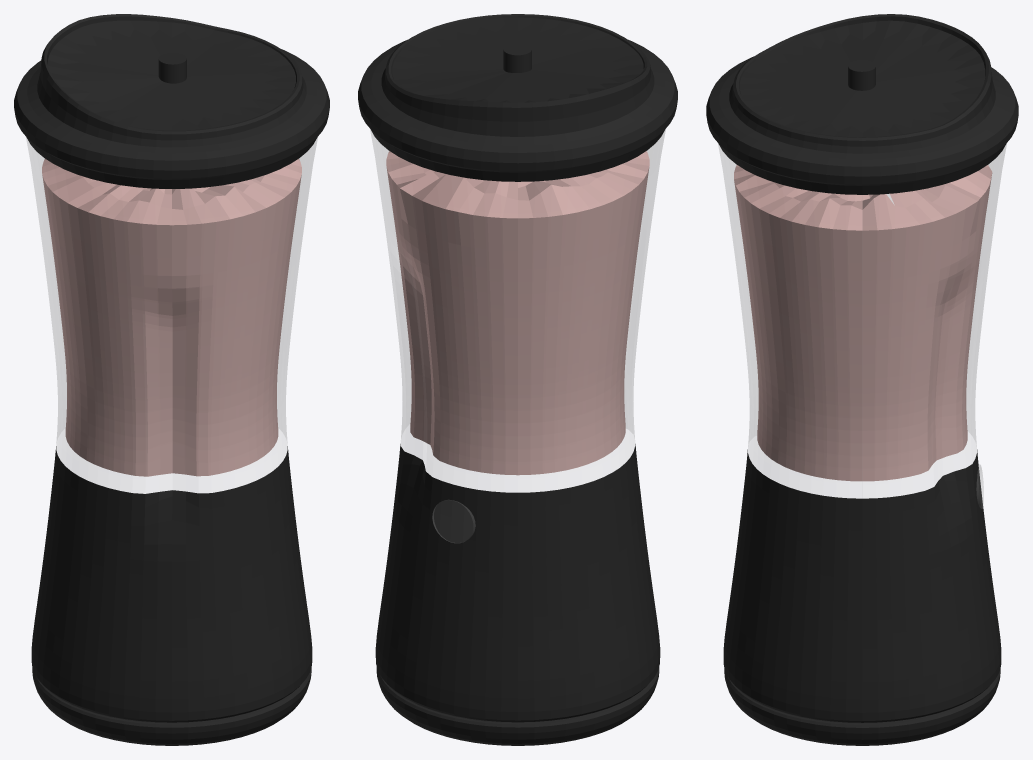
The picture shows the model from 3 angles, left to right: view 1: azimuth 30°, elevation 25°; view 2: azimuth 150°, elevation 25°; view 3: azimuth 270°, elevation 25°; orthographic projection. The views are drawn at different scales.
Visible parts, largest first — view 1: Cylinder007, Object002, Cylinder005, Cylinder006; view 2: Cylinder007, Object002, Cylinder005, Cylinder008, Cylinder006; view 3: Cylinder007, Object002, Cylinder005, Cylinder006.
Boxes of the visible parts, x1,y1,x2,y2 form: Cylinder007: (14, 14, 329, 493); Object002: (31, 446, 312, 745); Cylinder005: (42, 158, 301, 476); Cylinder006: (158, 52, 186, 83); Cylinder007: (358, 14, 677, 491); Object002: (375, 444, 660, 745); Cylinder005: (386, 151, 649, 475); Cylinder008: (432, 500, 475, 542); Cylinder006: (503, 43, 531, 72); Cylinder007: (706, 14, 1018, 498); Object002: (723, 449, 1001, 745); Cylinder005: (734, 165, 992, 481); Cylinder006: (848, 60, 875, 90).
Bounding box in the file's own units: 14552 × 32452 × 14528.
